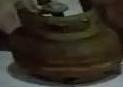cylinder: (1, 1, 123, 87)
